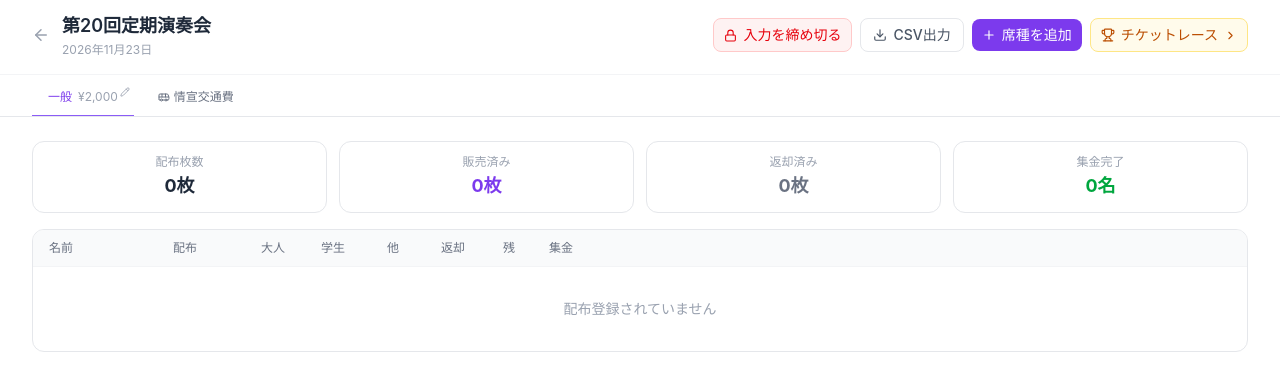
Scenario: TicketDetailPage（席種タブ切替） › 情宣交通費タブに切り替えるとOutreachExpenseTabが表示される
This screenshot has width=1280, height=369.
Expected: the text "配布登録されていません" is shown, [563,300,717,317]
Click the button "情宣交通費": (196, 98) [142,79,250,117]
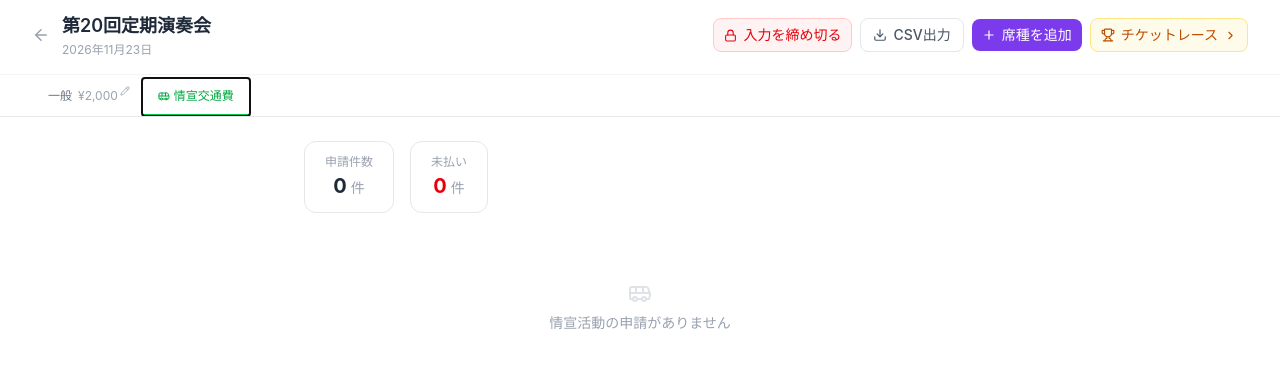
Expected: the text "情宣活動の申請がありません" is shown, [549,281,731,331]
